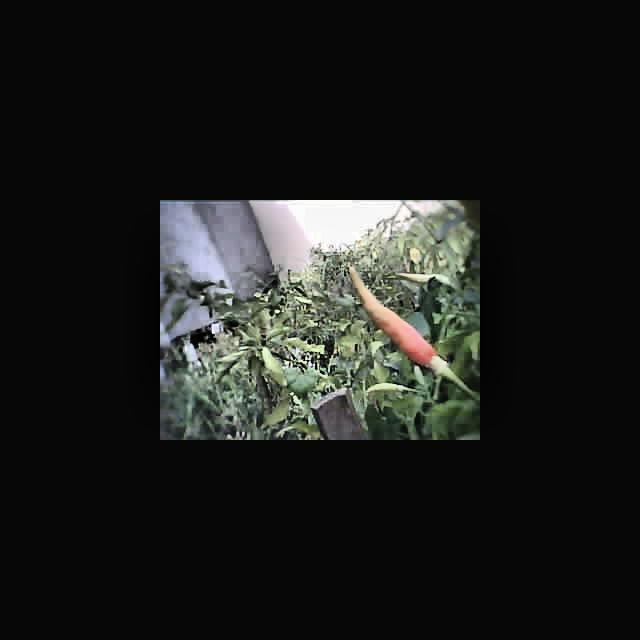Cabai: (350, 279, 441, 369)
